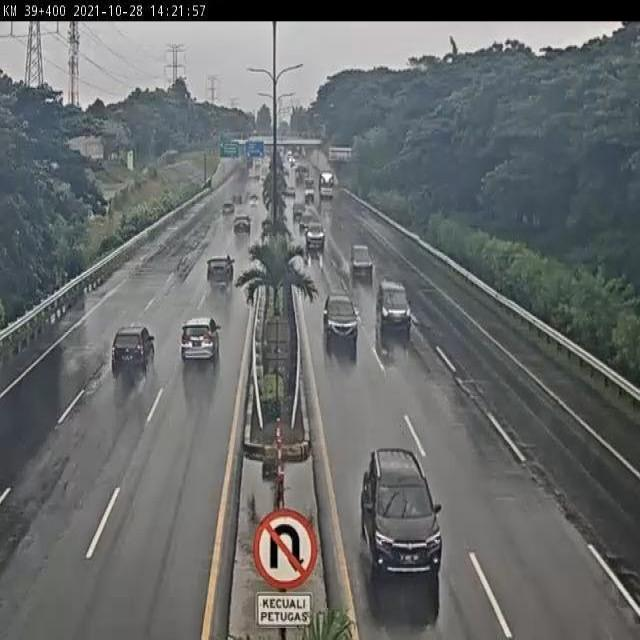car: (359, 447, 448, 582), (108, 324, 156, 379), (319, 289, 363, 348), (374, 279, 416, 336), (180, 315, 223, 364), (350, 240, 378, 280), (206, 252, 234, 289), (304, 222, 330, 254), (231, 215, 252, 236), (219, 200, 239, 219), (290, 196, 305, 220)
